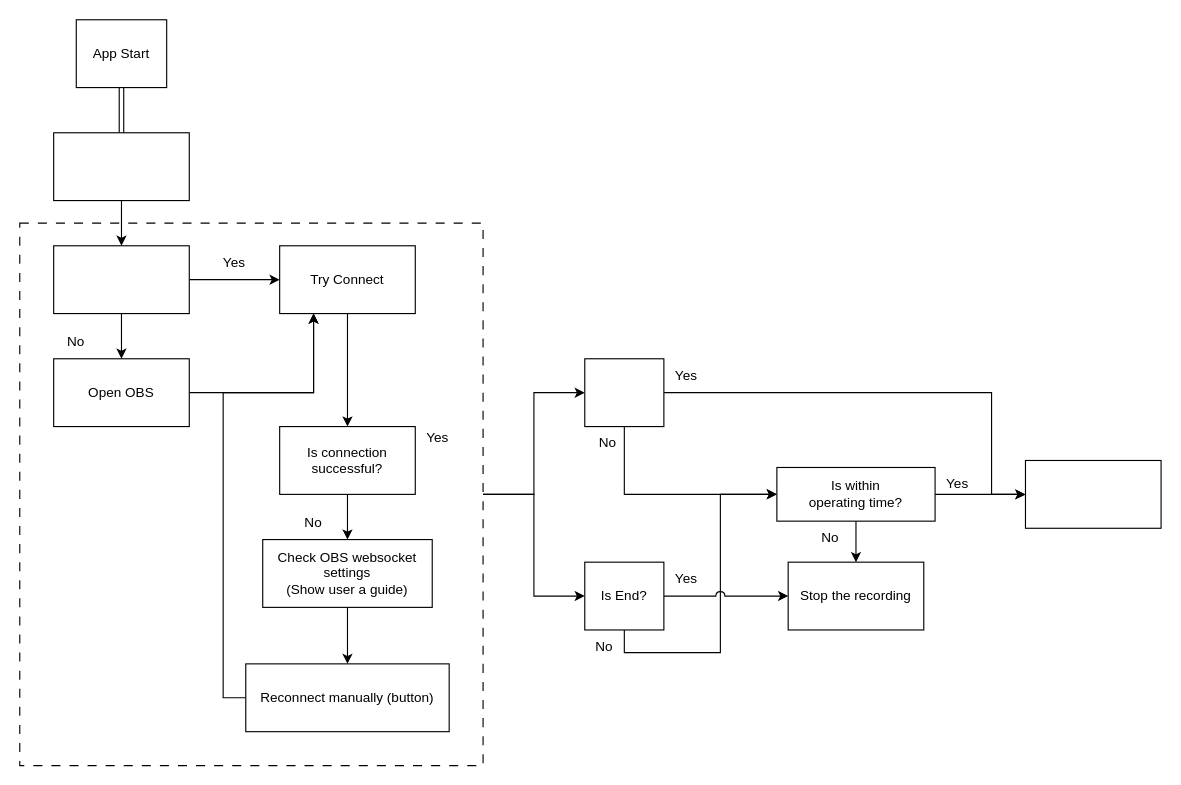
The diagram is 1181 pixels wide and 785 high, and some of its shapes have lost their labels. Here are the shapes that lost their labels. From the top down, the centre of each, then its label:
(121,166): Timer Tick
(121,279): Is OBS open?
(624,392): Is Start?
(1092,493): Start the recording
